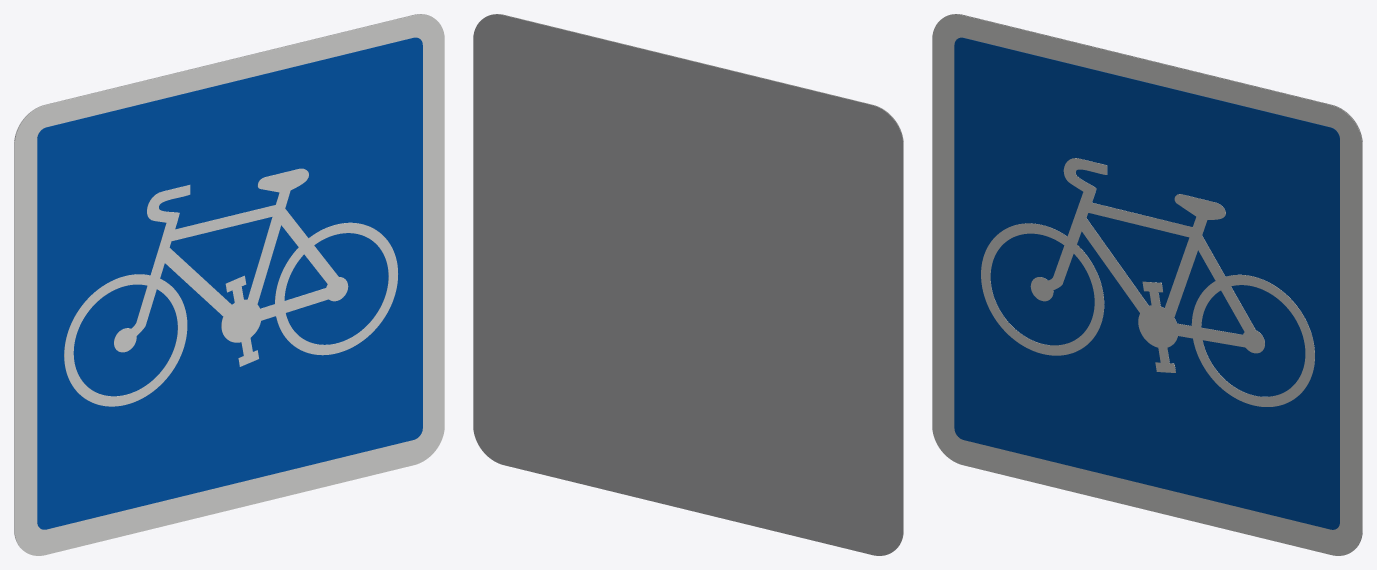
The picture shows the model from 3 angles, left to right: view 1: azimuth 30°, elevation 25°; view 2: azimuth 150°, elevation 25°; view 3: azimuth 330°, elevation 25°; orthographic projection.
Parts seen in each view (by area): view 1: C113_p01, C113_p00, C113_p02, C113_dos; view 2: C113_dos, C113_p00; view 3: C113_p01, C113_p00, C113_p02, C113_dos.
Part boxes in pixels (<box>): C113_p01: <box>37,37,422,529</box>; C113_p00: <box>14,14,444,555</box>; C113_p02: <box>64,168,397,406</box>; C113_dos: <box>14,14,431,547</box>; C113_dos: <box>473,14,903,555</box>; C113_p00: <box>486,14,903,547</box>; C113_p01: <box>954,37,1339,529</box>; C113_p00: <box>932,14,1362,555</box>; C113_p02: <box>981,158,1314,406</box>; C113_dos: <box>945,14,1362,547</box>.
Bounding box in the file's own units: 0.7 × 0.6999 × 0.0027.
